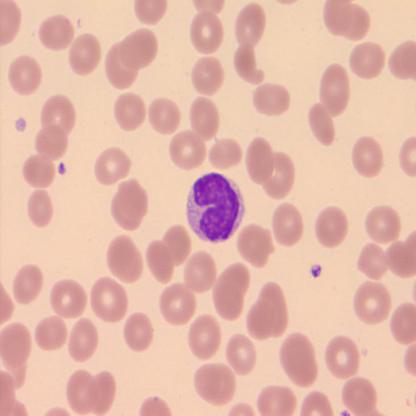Band Neutrophil: (185, 170, 246, 246)
